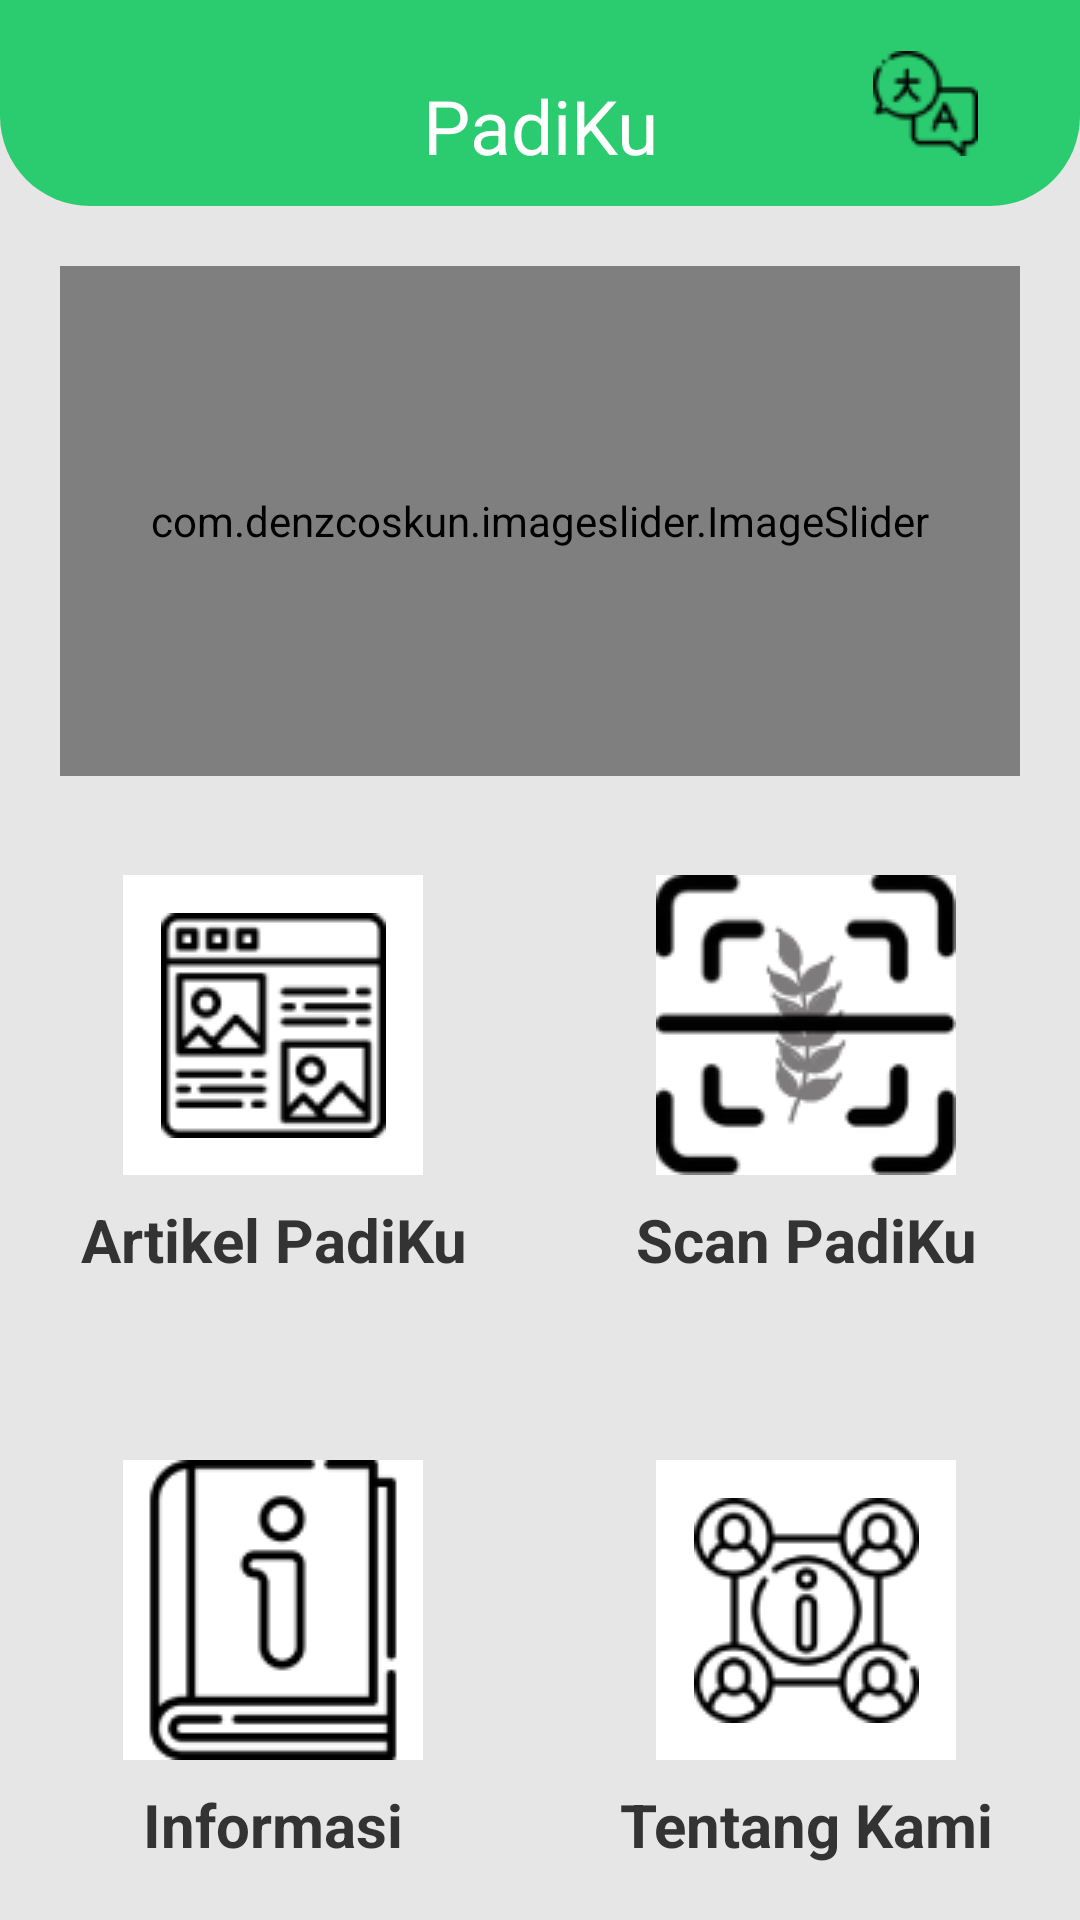

Locate icon controls on the screen. Image size 1080×1920, boxes as {"left": x1, "top": y1, "right": x2, "bottom": y2}.
translation: {"left": 873, "top": 51, "right": 978, "bottom": 156}
